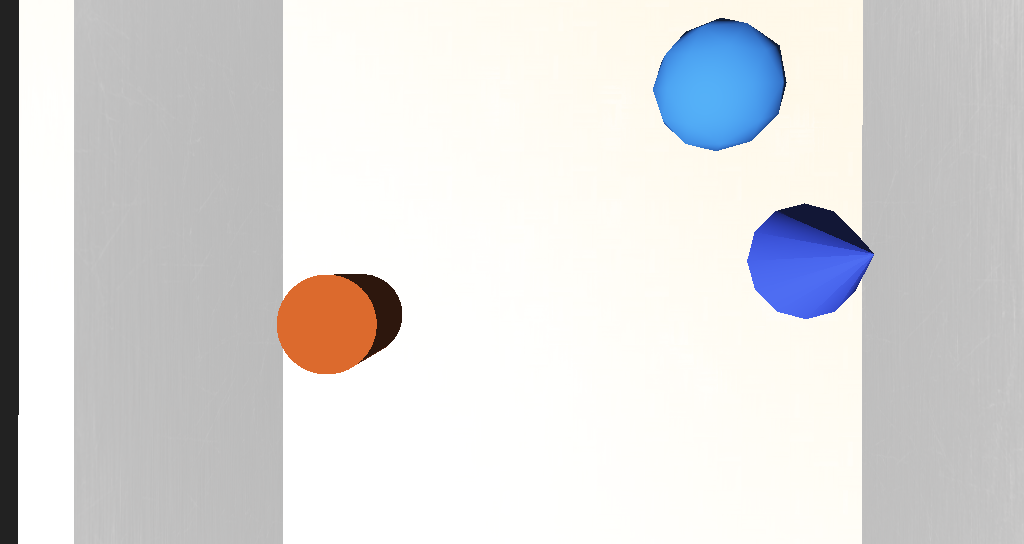cone: (360, 270, 421, 303)
cylinder: (600, 239, 667, 286)
sphere: (549, 184, 610, 227)
